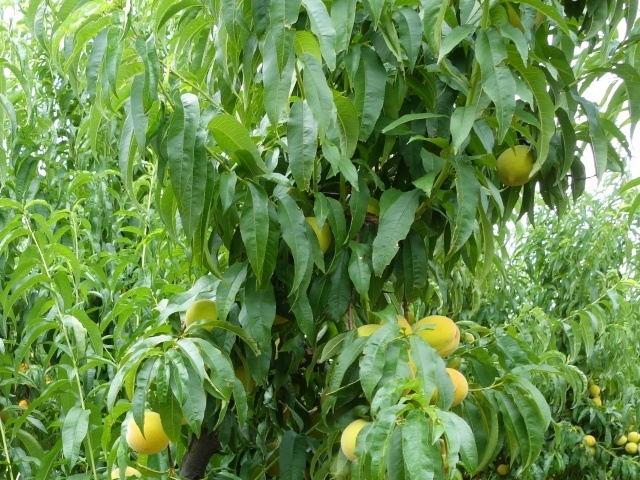peach: (124, 405, 174, 462), (412, 310, 462, 359), (495, 140, 537, 189), (336, 409, 371, 466), (304, 205, 339, 258), (434, 363, 472, 410), (182, 295, 225, 332)
